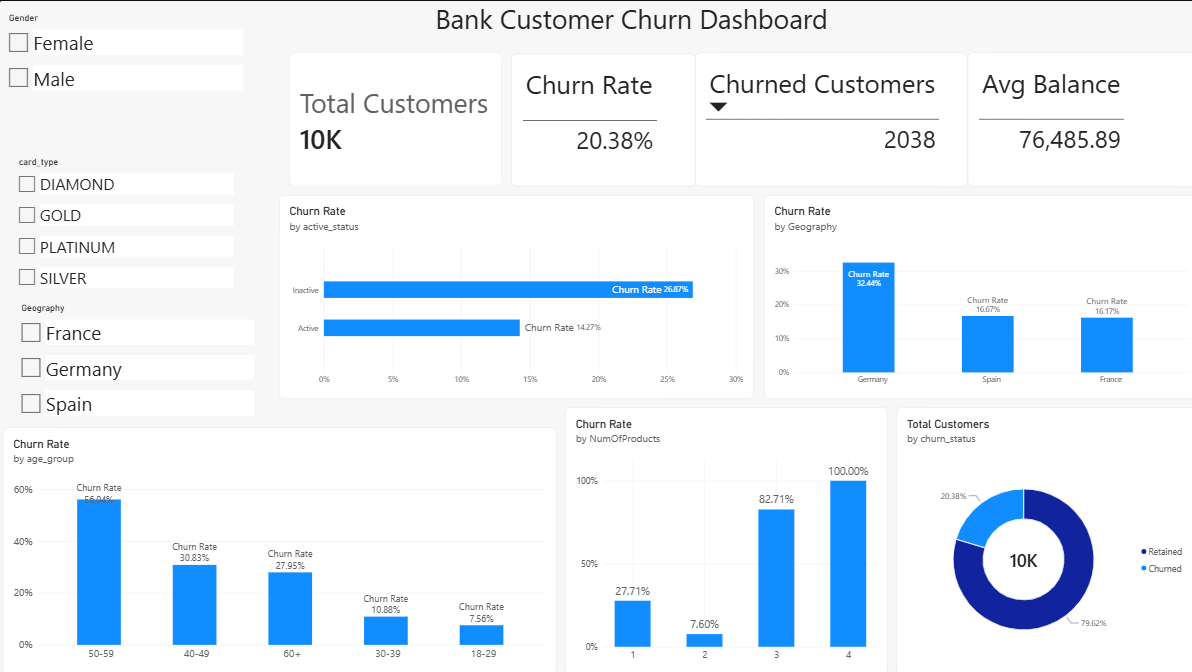

The dashboard page shown, as its layout file describes it:
{"tool":"powerbi","page":{"name":"Page 1","canvas":[1920,1080],"ordinal":0},"visuals":[{"type":"cardVisual","fields":{"Data":["clean_bank_churn.Total Customers"]},"box":[464,84,340,214],"z":0},{"type":"tableEx","fields":{"Values":["clean_bank_churn.Churned Customers"]},"box":[1114,84,436,214],"z":2},{"type":"tableEx","fields":{"Values":["clean_bank_churn.Churn Rate"]},"box":[820,86,294,212],"z":4},{"type":"tableEx","fields":{"Values":["clean_bank_churn.Avg Balance"]},"box":[1550,84,370,214],"z":6},{"type":"clusteredColumnChart","fields":{"Category":["clean_bank_churn.Geography"],"Y":["clean_bank_churn.Churn Rate"]},"box":[1224,312,696,326],"z":7},{"type":"clusteredColumnChart","fields":{"Category":["clean_bank_churn.age_group"],"Y":["clean_bank_churn.Churn Rate"]},"box":[5.8,651.9,886.5,428.8],"z":8},{"type":"clusteredColumnChart","fields":{"Category":["clean_bank_churn.NumOfProducts"],"Y":["clean_bank_churn.Churn Rate"]},"box":[906,652,516,428],"z":9},{"type":"clusteredBarChart","fields":{"Category":["clean_bank_churn.active_status"],"Y":["clean_bank_churn.Churn Rate"]},"box":[448,312,760,326],"z":10},{"type":"slicer","fields":{"Values":["clean_bank_churn.Gender"]},"box":[21.2,25,382,210],"z":11},{"type":"slicer","fields":{"Values":["clean_bank_churn.Geography"]},"box":[21.2,428.8,380,270],"z":12},{"type":"slicer","fields":{"Values":["clean_bank_churn.card_type"]},"box":[21.2,194.2,380.8,234.6],"z":13},{"type":"textbox","box":[697.5,0,632.5,105],"z":14},{"type":"donutChart","fields":{"Category":["clean_bank_churn.churn_status"],"Y":["clean_bank_churn.Total Customers"]},"box":[1436,652,484,428],"z":15}]}

Visuals, with their boxes in screenshot pixels (x1, y1, x2, y2), scaled from the page's 1920x1080 canvas onto the 1192x672 screenshot:
cardVisual - clean_bank_churn.Total Customers: [x1=288, y1=52, x2=499, y2=185]
tableEx - clean_bank_churn.Churned Customers: [x1=692, y1=52, x2=962, y2=185]
tableEx - clean_bank_churn.Churn Rate: [x1=509, y1=54, x2=692, y2=185]
tableEx - clean_bank_churn.Avg Balance: [x1=962, y1=52, x2=1191, y2=185]
clusteredColumnChart - clean_bank_churn.Geography x clean_bank_churn.Churn Rate: [x1=760, y1=194, x2=1191, y2=397]
clusteredColumnChart - clean_bank_churn.age_group x clean_bank_churn.Churn Rate: [x1=4, y1=406, x2=554, y2=671]
clusteredColumnChart - clean_bank_churn.NumOfProducts x clean_bank_churn.Churn Rate: [x1=562, y1=406, x2=883, y2=671]
clusteredBarChart - clean_bank_churn.active_status x clean_bank_churn.Churn Rate: [x1=278, y1=194, x2=750, y2=397]
slicer - clean_bank_churn.Gender: [x1=13, y1=16, x2=250, y2=146]
slicer - clean_bank_churn.Geography: [x1=13, y1=267, x2=249, y2=435]
slicer - clean_bank_churn.card_type: [x1=13, y1=121, x2=250, y2=267]
textbox: [x1=433, y1=0, x2=826, y2=65]
donutChart - clean_bank_churn.churn_status x clean_bank_churn.Total Customers: [x1=892, y1=406, x2=1191, y2=671]
